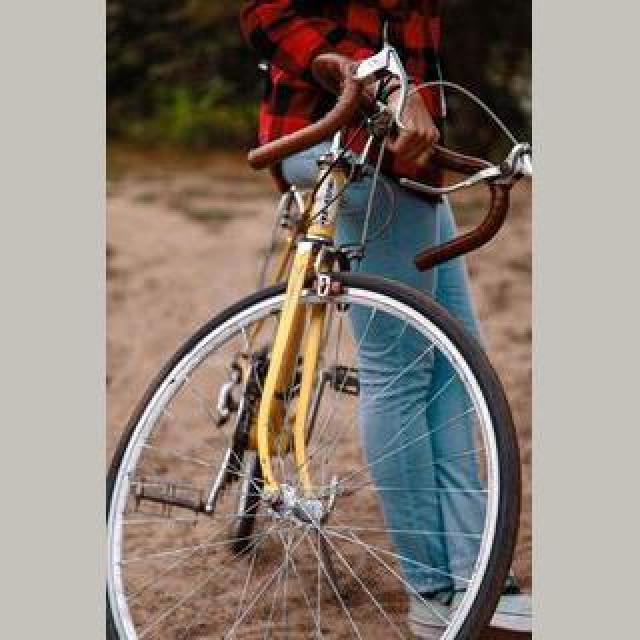Person: (113, 88, 527, 630)
